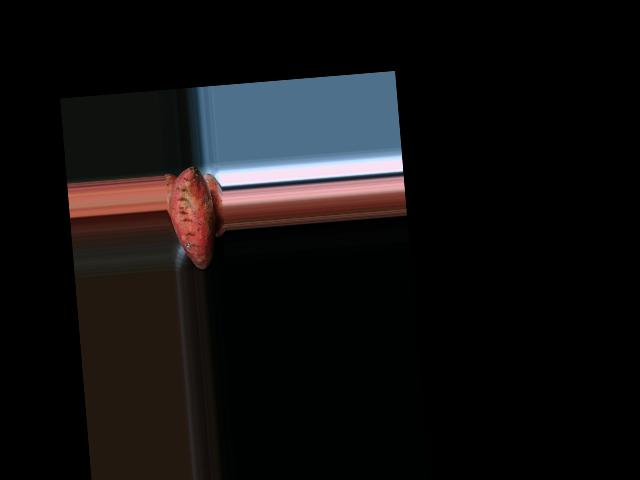sweet_potato: (169, 165, 214, 270)
